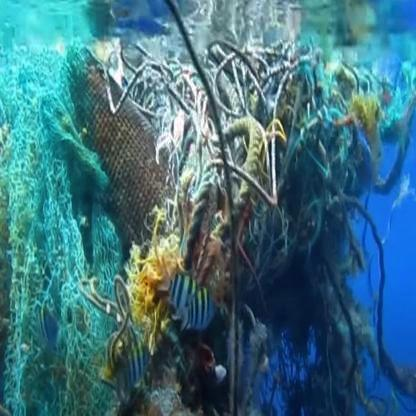net: (21, 67, 127, 364)
